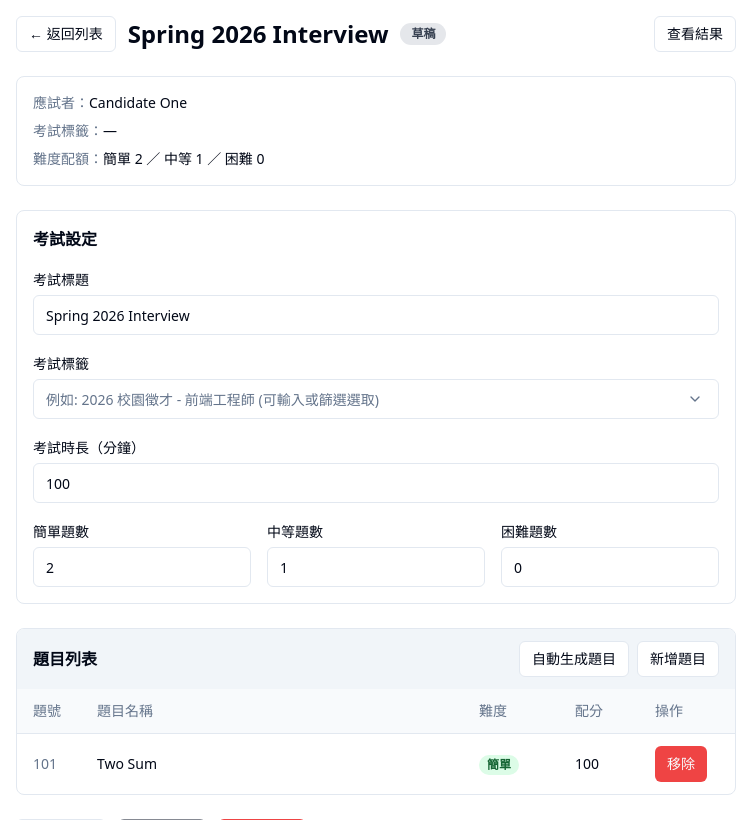
Test case: ExamDetailPage › renders error on auto generate failure
Expected: the heading "Spring 2026 Interview" is shown, [128,18,388,50]
Click the button "自動生成題目" at (574, 659), box [519,641,629,677]
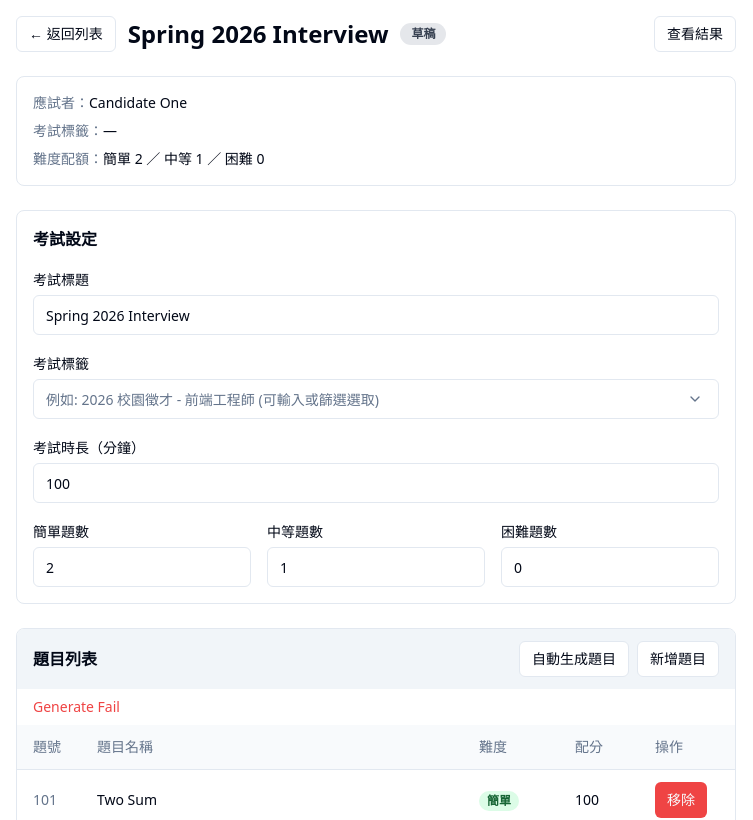
Result: the text "Generate Fail" is shown at [33,697,120,716]
